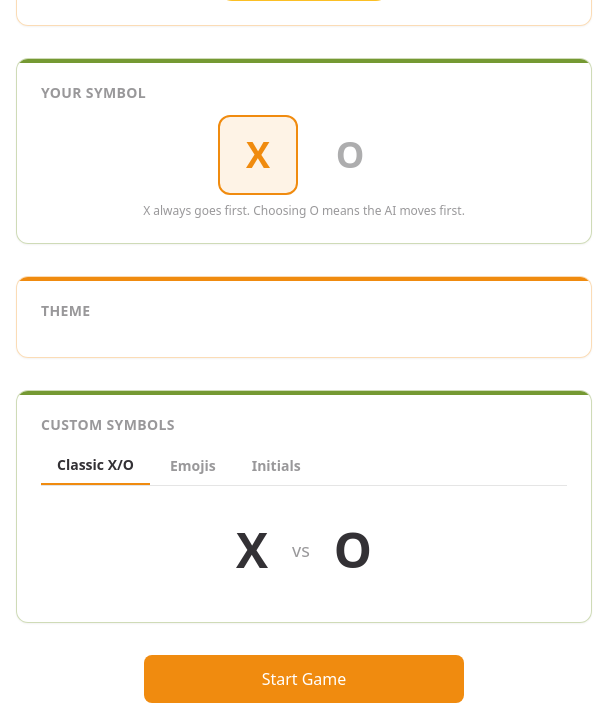
AIGame — setup phase › shows error message when createGame fails
The width and height of the screenshot is (609, 708).
(page scrolled)
Step 1. Click the button "Start Game" → (304, 679), box 144,655 -> 464,703
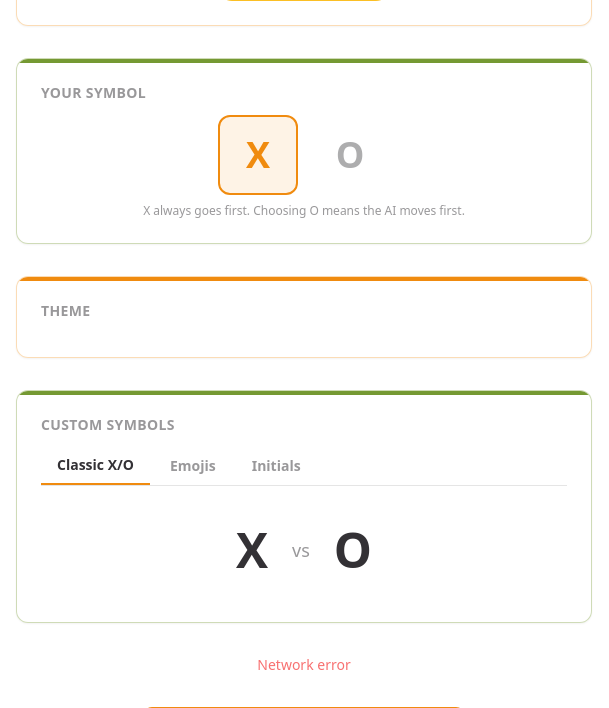
Check: the text "Network error" is shown, box 257,655 -> 351,675
